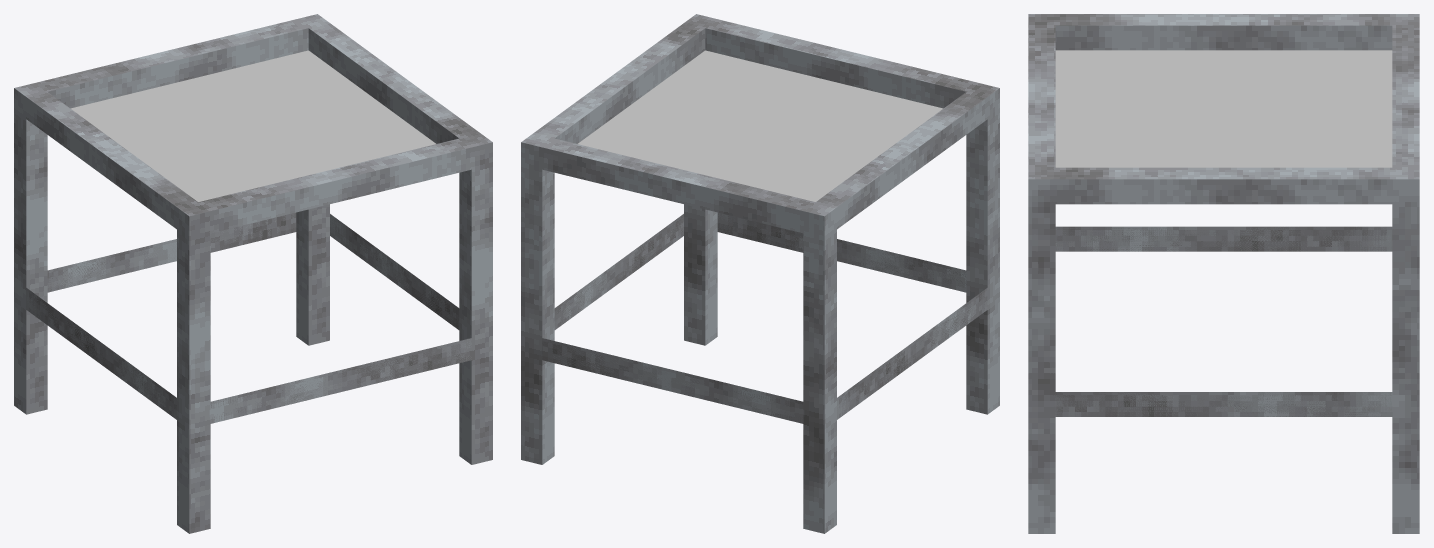
The model's file is scaffolding-structure.obj.
The picture shows the model from 3 angles, left to right: view 1: azimuth 30°, elevation 25°; view 2: azimuth 150°, elevation 25°; view 3: azimuth 270°, elevation 25°; orthographic projection. The views are drawn at different scales.
Parts seen in each view (by area): view 1: scaffolding-structure; view 2: scaffolding-structure; view 3: scaffolding-structure.
Boxes of the visible parts, x1,y1,x2,y2 form: scaffolding-structure: (14, 14, 492, 533); scaffolding-structure: (521, 14, 999, 533); scaffolding-structure: (1028, 14, 1419, 533).
Bounding box in the file's own units: 1 × 1 × 1.
